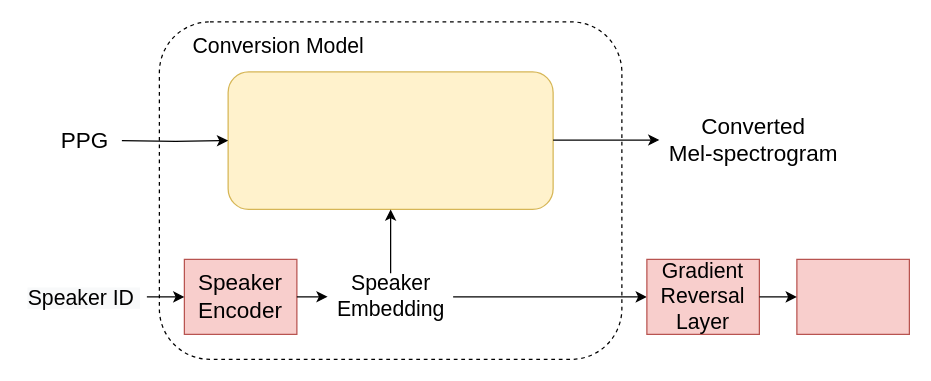
The diagram is 931 pixels wide and 381 high, and some of its shapes have lost their labels. The centre of each missing label's shape, as x and y in pixels:
"Core Conversion Model" goes at (390,140).
"Language Classifier" goes at (852,296).
